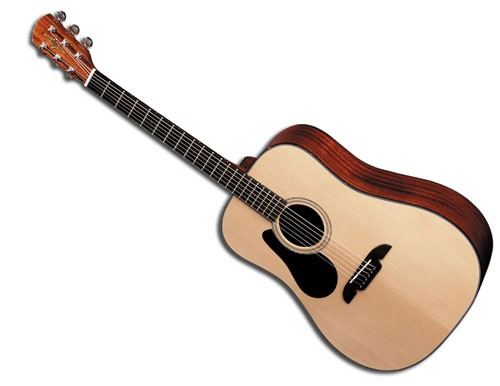guitar: (26, 9, 494, 374)
